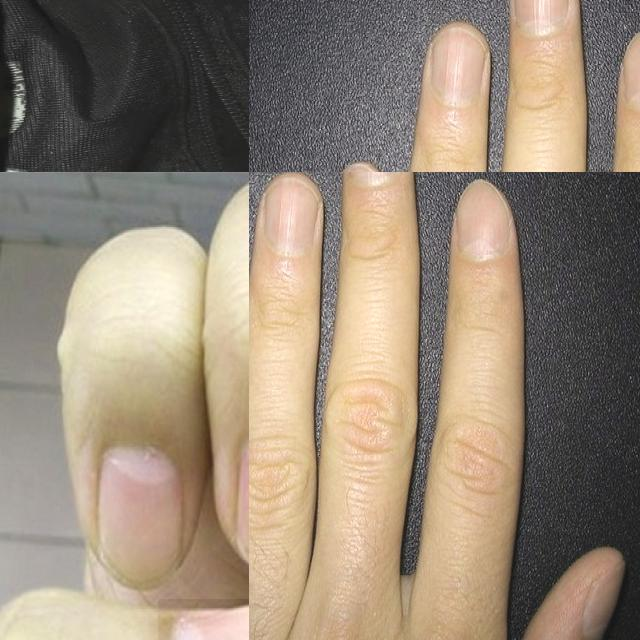sehat: (95, 447, 180, 576), (456, 181, 510, 261), (432, 30, 484, 102), (265, 180, 317, 252), (577, 563, 623, 640), (515, 0, 568, 34), (623, 34, 640, 111)
